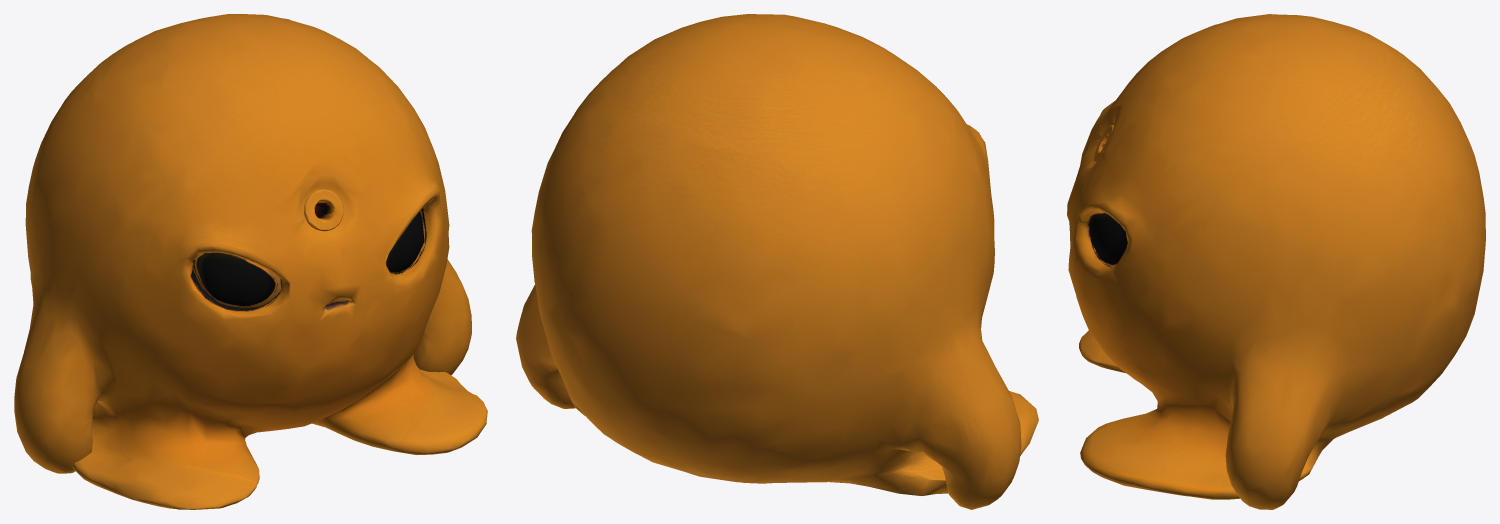
File: CHAR-BASE-T-fix.glb
3 views of the same model, side by side, from view 1: azimuth 30°, elevation 25°; view 2: azimuth 150°, elevation 25°; view 3: azimuth 270°, elevation 25° (orthographic). The views are drawn at different scales.
Parts seen in each view (by area): view 1: tripo_node_7e84a5bd-833c-46c4-91e6-8e3cbe10f39b; view 2: tripo_node_7e84a5bd-833c-46c4-91e6-8e3cbe10f39b; view 3: tripo_node_7e84a5bd-833c-46c4-91e6-8e3cbe10f39b.
Boxes of the visible parts, x1,y1,x2,y2 form: tripo_node_7e84a5bd-833c-46c4-91e6-8e3cbe10f39b: (14, 14, 487, 509); tripo_node_7e84a5bd-833c-46c4-91e6-8e3cbe10f39b: (516, 14, 1038, 509); tripo_node_7e84a5bd-833c-46c4-91e6-8e3cbe10f39b: (1067, 14, 1485, 509).
Size of the model in its own units: 1.06 by 0.8791 by 0.8685.
1 material, 1 textured.
